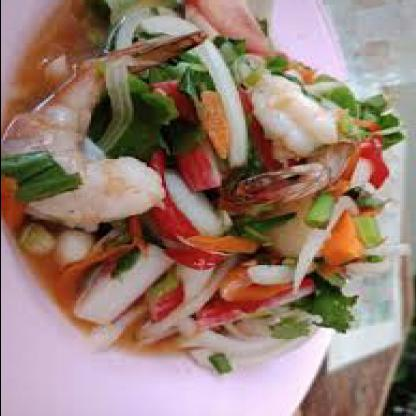Yum: (2, 6, 392, 382)
